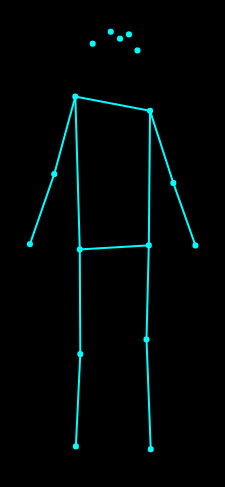mountain: (23, 19, 202, 454)
